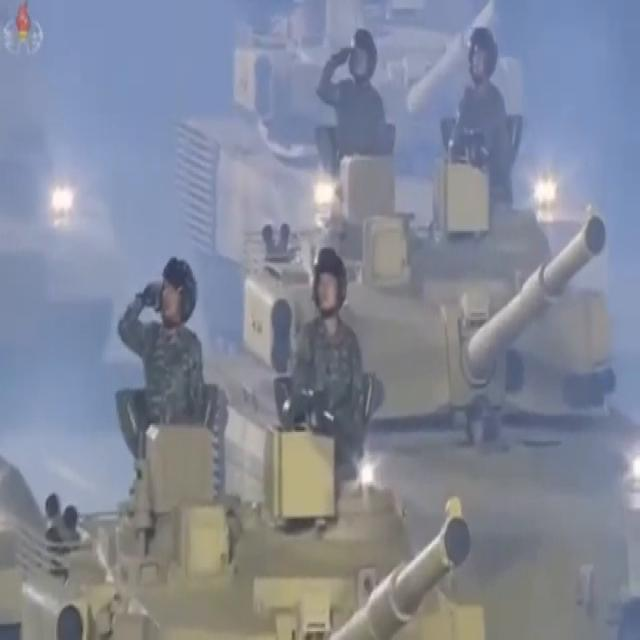north tank: (235, 151, 640, 596), (0, 407, 503, 639)
